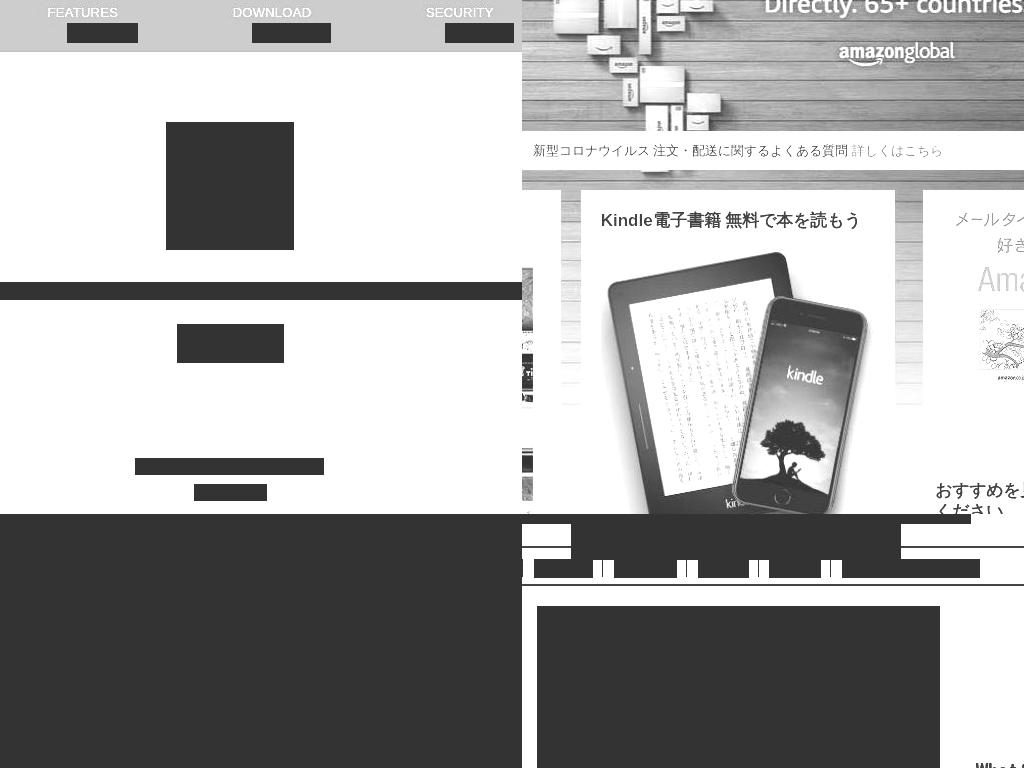button: (600, 241, 876, 514), (0, 564, 352, 768), (166, 122, 294, 250), (431, 636, 522, 768), (177, 324, 284, 363), (842, 559, 980, 578), (614, 559, 677, 578), (534, 559, 593, 578), (769, 559, 821, 578), (698, 559, 749, 578)
heading: (0, 564, 351, 768), (0, 282, 522, 300), (600, 210, 876, 231), (431, 564, 522, 604), (935, 480, 1024, 514)
iframe: (0, 514, 522, 768), (922, 190, 1024, 440)
image: (600, 241, 876, 514), (0, 564, 352, 768), (537, 606, 940, 768), (166, 122, 294, 250), (571, 514, 901, 560), (431, 636, 522, 768)
link: (252, 23, 331, 43), (67, 23, 138, 43), (445, 23, 514, 43), (852, 143, 944, 158), (194, 484, 267, 501)
text: (532, 143, 849, 158), (135, 458, 324, 475)
